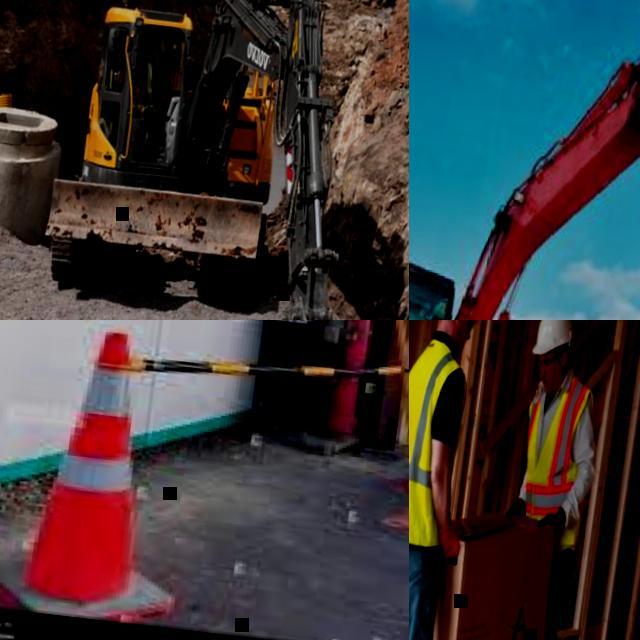Hardhat: (530, 320, 578, 360)
NO-Hardhat: (137, 38, 149, 49)
NO-Mask: (541, 361, 564, 397), (449, 320, 468, 357), (135, 53, 145, 66)
Person: (474, 320, 617, 640), (409, 320, 497, 640), (241, 320, 409, 458), (108, 35, 175, 154)
Safety Cone: (0, 320, 208, 630)
Safety Vest: (512, 368, 602, 543), (409, 333, 473, 550), (142, 61, 159, 105)
vehicle: (22, 0, 409, 320), (409, 0, 640, 320)
